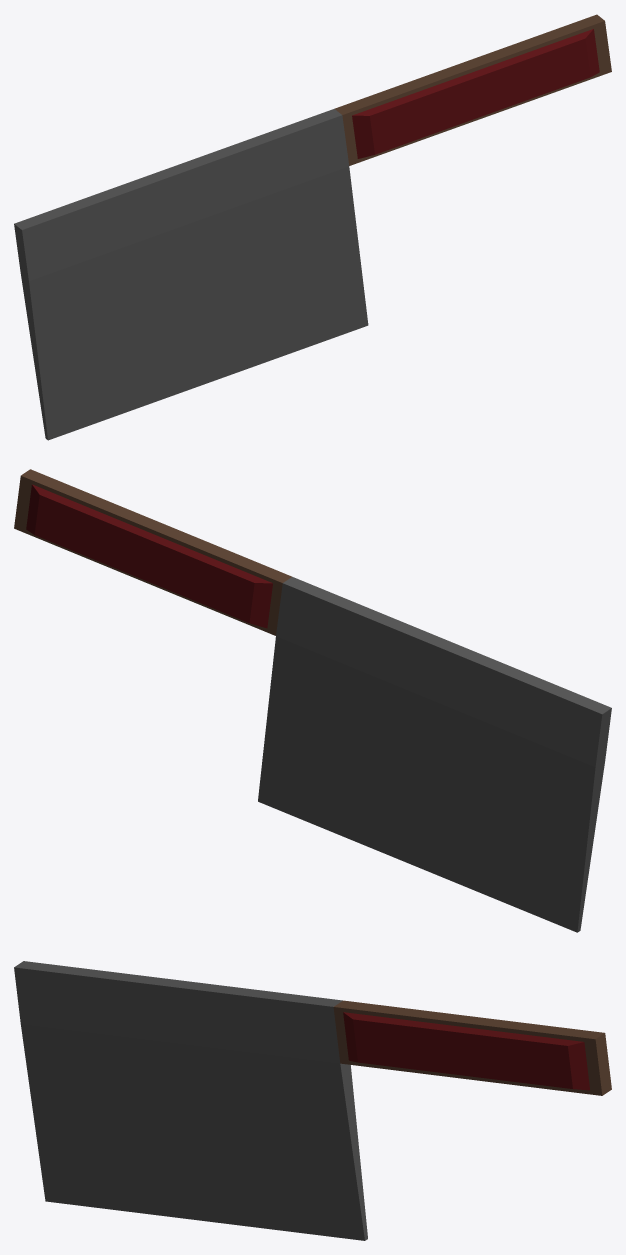
File: Coltello Grande.fbx
The picture shows the model from 3 angles, top to bottom: view 1: azimuth 30°, elevation 25°; view 2: azimuth 150°, elevation 25°; view 3: azimuth 330°, elevation 25°; orthographic projection. The views are drawn at different scales.
Visible parts, largest first — view 1: Knife 1.001; view 2: Knife 1.001; view 3: Knife 1.001.
Boxes of the visible parts, bbox=[...] form: Knife 1.001: bbox=[14, 14, 611, 440]; Knife 1.001: bbox=[14, 469, 611, 932]; Knife 1.001: bbox=[14, 961, 611, 1240].
Bounding box in the file's own units: 94.3 × 46.61 × 7.18.
